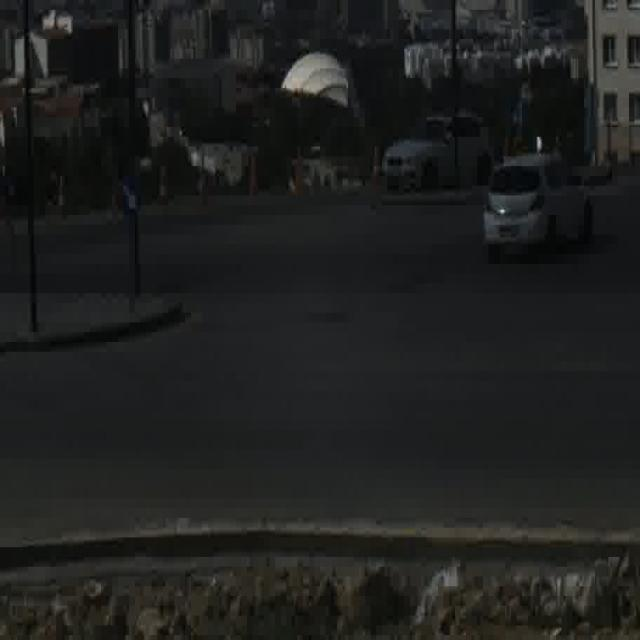Car: (484, 152, 591, 266)
